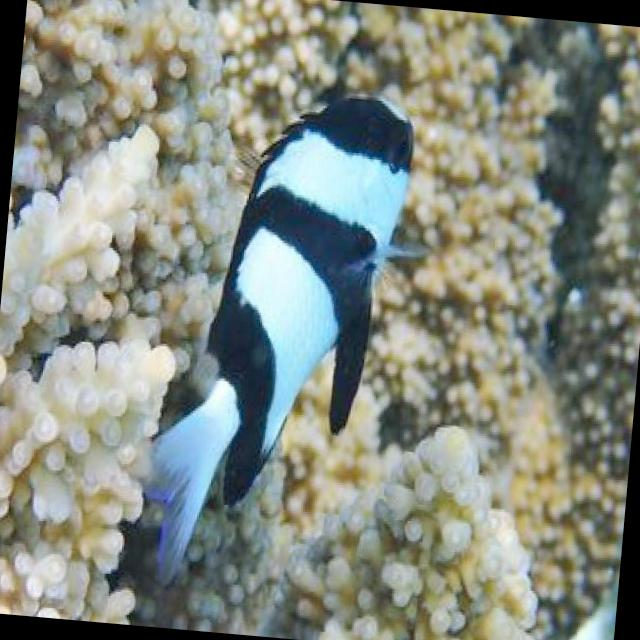Three_striped DasmselFish: (138, 78, 420, 579)
